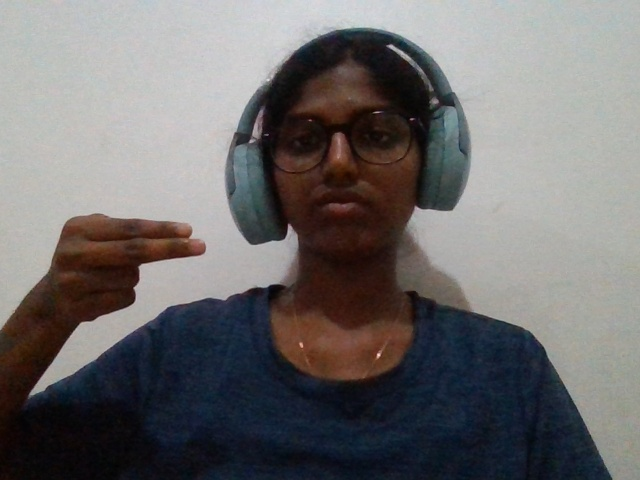H: (7, 184, 257, 362)
